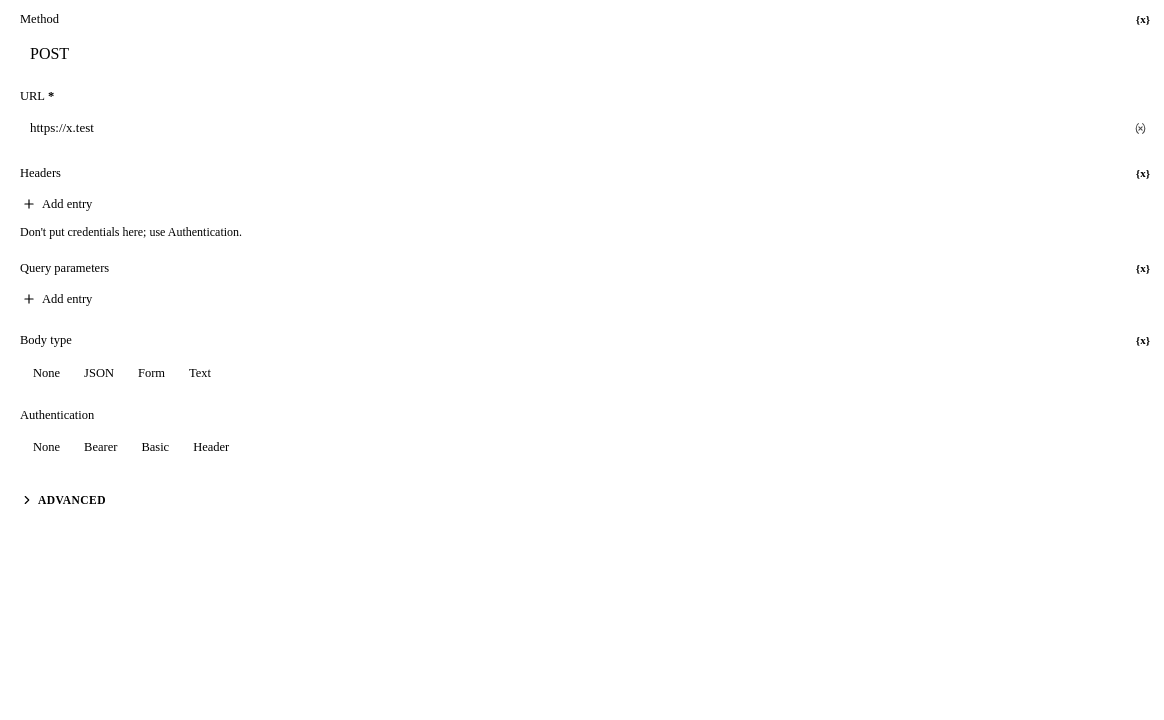
Test case: SchemaForm references and JSON › the HTTP body shows only for a body type other than None
Click the radio button labelled "JSON".
click(99, 373)  # box [73, 359, 125, 387]
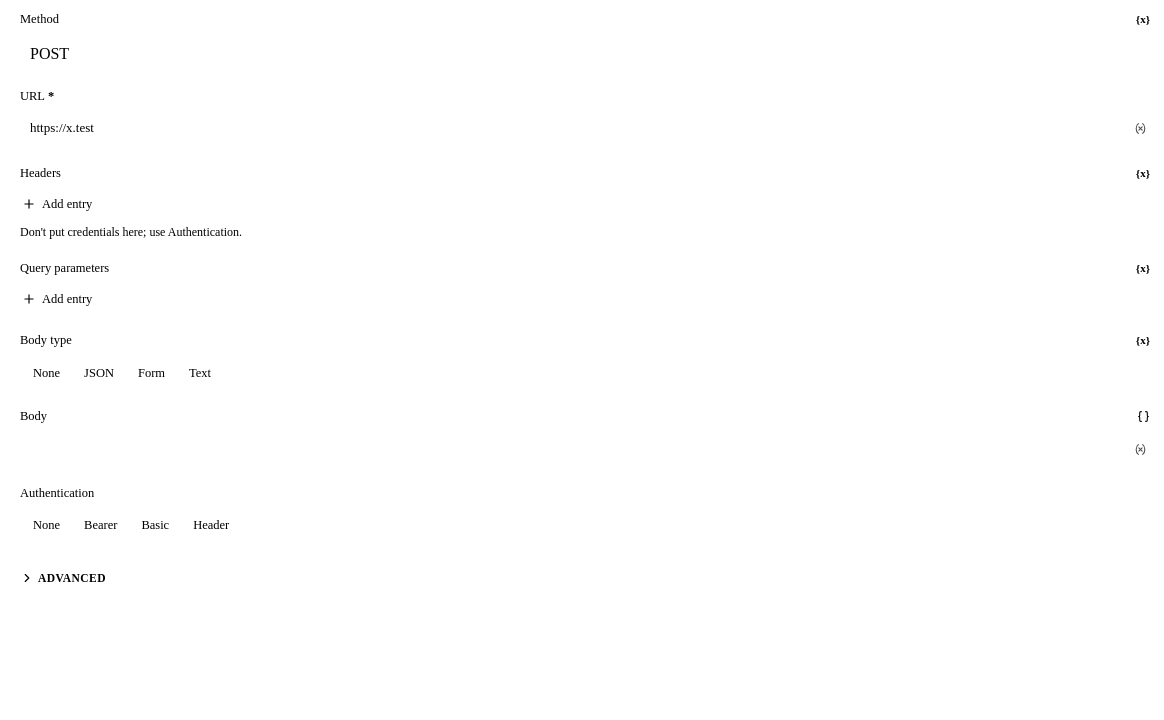
Now the text "Body" is shown, box [20, 409, 47, 423]
